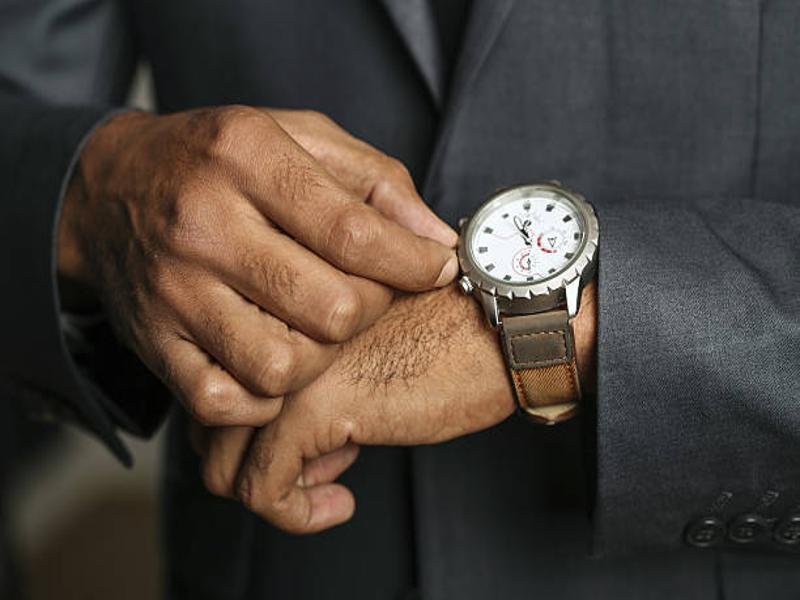watch: (450, 177, 603, 431)
